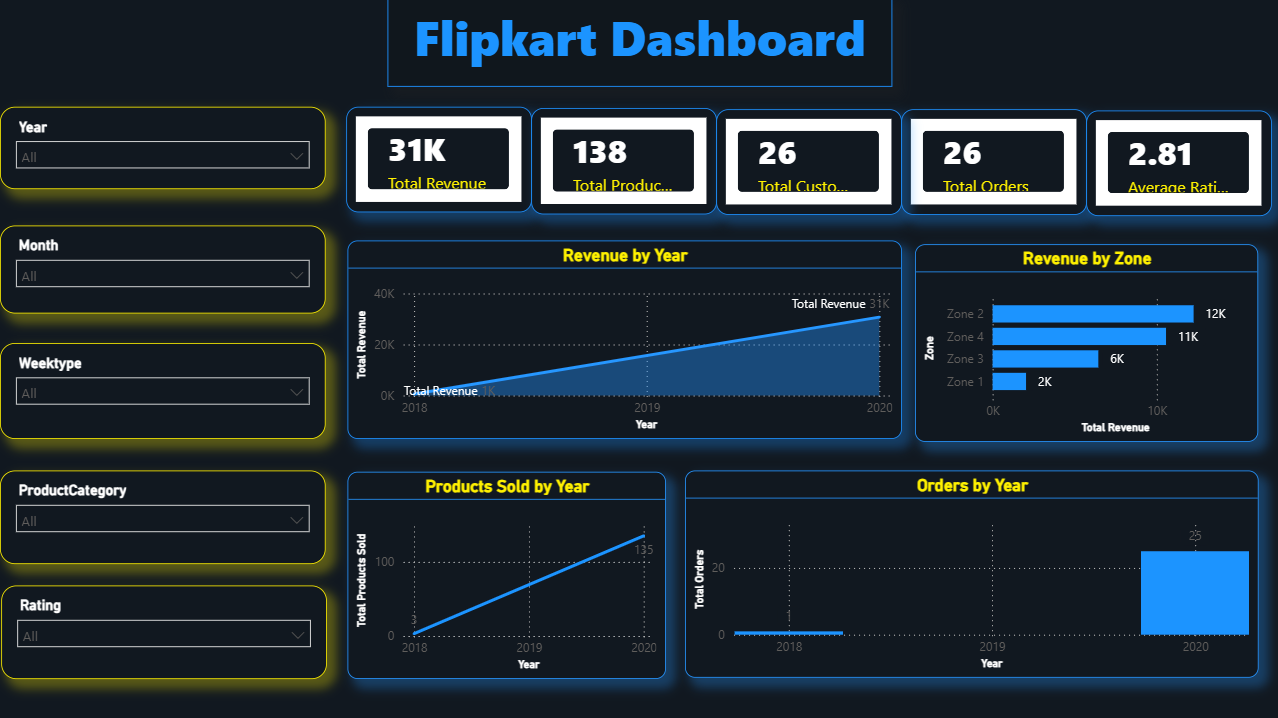

The dashboard page shown, as its layout file describes it:
{"tool":"powerbi","page":{"name":"Dashboard","canvas":[1280,720],"ordinal":0},"visuals":[{"type":"textbox","box":[387,0,505,89.2],"z":0},{"type":"slicer","fields":{"Values":["ECommerceSales.Year"]},"box":[0,108.4,325.2,82.3],"z":1000},{"type":"slicer","fields":{"Values":["ECommerceSales.Month"]},"box":[0,227.8,325.2,87.8],"z":2000},{"type":"slicer","fields":{"Values":["ECommerceSales.Weektype"]},"box":[0,344.4,325.2,96.1],"z":3000},{"type":"slicer","fields":{"Values":["ECommerceSales.ProductCategory"]},"box":[0,472,325.2,93.3],"z":4000},{"type":"slicer","fields":{"Values":["ECommerceSales.Rating"]},"box":[1.4,587.3,325.2,93.3],"z":5000},{"type":"cardVisual","fields":{"Data":["ECommerceSales.Total Revenue"]},"box":[345.8,108.4,185.2,105.7],"z":6000},{"type":"cardVisual","fields":{"Data":["ECommerceSales.Total Products Sold"]},"box":[531,109.8,185.2,106],"z":7000},{"type":"cardVisual","fields":{"Data":["ECommerceSales.Total Orders"]},"box":[901.5,111.1,185.2,105.7],"z":8000},{"type":"cardVisual","fields":{"Data":["ECommerceSales.Average Rating"]},"box":[1086.8,112.5,185.2,105.7],"z":9000},{"type":"cardVisual","fields":{"Data":["ECommerceSales.Total Customers"]},"box":[716.3,111.1,185.2,105.7],"z":10000},{"type":"areaChart","title":"Revenue by Year","fields":{"Category":["ECommerceSales.OrderDate.Variation.Date Hierarchy.Year"],"Y":["ECommerceSales.Total Revenue"]},"box":[347.2,242.9,554,198],"z":11000},{"type":"clusteredBarChart","title":"Revenue by Zone","fields":{"Category":["ECommerceSales.Zone"],"Y":["ECommerceSales.Total Revenue"]},"box":[915.3,245.6,343.1,197.6],"z":12000},{"type":"lineChart","title":"Products Sold by Year","fields":{"Category":["ECommerceSales.OrderDate.Variation.Date Hierarchy.Year"],"Y":["ECommerceSales.Total Products Sold"]},"box":[347.2,473.4,318.4,207.2],"z":13000},{"type":"clusteredColumnChart","title":"Orders by Year","fields":{"Category":["ECommerceSales.OrderDate.Variation.Date Hierarchy.Year"],"Y":["ECommerceSales.Total Orders"]},"box":[684.7,472,573.6,207.2],"z":14000}]}

Visuals, with their boxes in screenshot pixels (x1, y1, x2, y2), scaled from the page's 1280x720 canvas onto the 1278x718 screenshot:
textbox: <region>386, 0, 891, 89</region>
slicer - ECommerceSales.Year: <region>0, 108, 325, 190</region>
slicer - ECommerceSales.Month: <region>0, 227, 325, 315</region>
slicer - ECommerceSales.Weektype: <region>0, 343, 325, 439</region>
slicer - ECommerceSales.ProductCategory: <region>0, 471, 325, 564</region>
slicer - ECommerceSales.Rating: <region>1, 586, 326, 679</region>
cardVisual - ECommerceSales.Total Revenue: <region>345, 108, 530, 214</region>
cardVisual - ECommerceSales.Total Products Sold: <region>530, 109, 715, 215</region>
cardVisual - ECommerceSales.Total Orders: <region>900, 111, 1085, 216</region>
cardVisual - ECommerceSales.Average Rating: <region>1085, 112, 1270, 218</region>
cardVisual - ECommerceSales.Total Customers: <region>715, 111, 900, 216</region>
"Revenue by Year" areaChart: <region>347, 242, 900, 440</region>
"Revenue by Zone" clusteredBarChart: <region>914, 245, 1256, 442</region>
"Products Sold by Year" lineChart: <region>347, 472, 665, 679</region>
"Orders by Year" clusteredColumnChart: <region>684, 471, 1256, 677</region>
